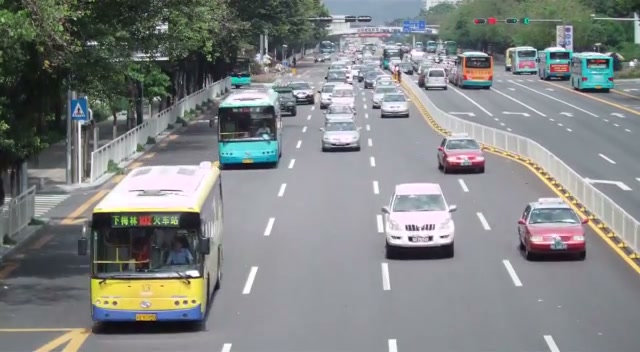bus: (85, 162, 225, 329), (217, 86, 283, 169), (569, 52, 615, 91), (452, 50, 494, 89), (538, 47, 570, 81), (505, 46, 538, 75)
car: (380, 182, 458, 259), (516, 198, 587, 261), (436, 136, 486, 174), (320, 117, 362, 152), (380, 93, 410, 118), (289, 80, 315, 104), (372, 85, 399, 108), (423, 68, 448, 91), (275, 90, 297, 116)
pedestrian: (166, 237, 193, 265)
truck: (570, 51, 615, 91), (538, 47, 570, 80), (505, 46, 538, 75)
